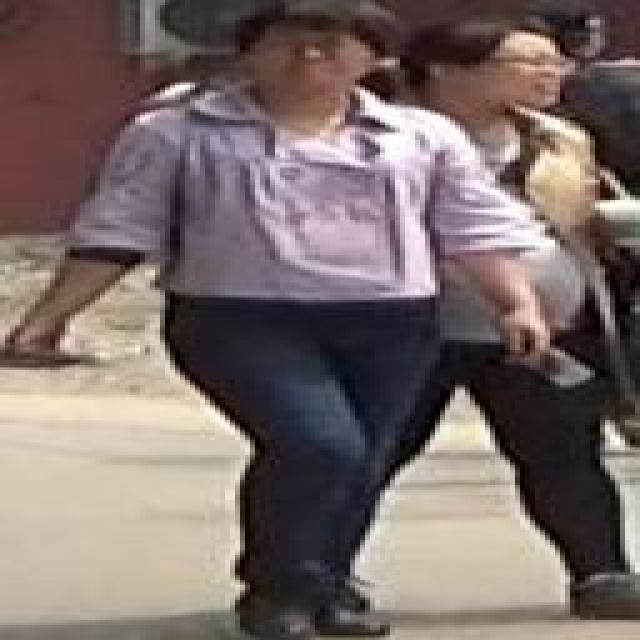adult: (11, 5, 546, 640), (365, 13, 640, 625)
